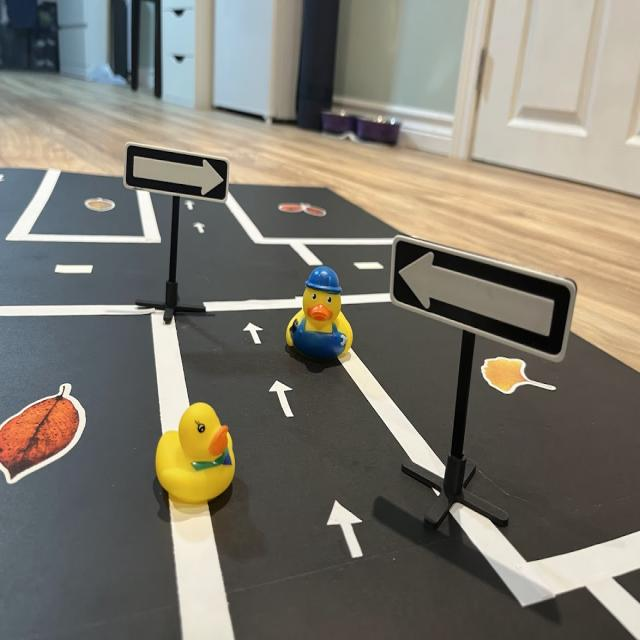duck_regular: (153, 400, 238, 509)
duck_specialty: (282, 263, 355, 367)
road_oneway: (326, 489, 375, 567), (268, 373, 298, 423), (243, 316, 263, 351), (192, 222, 209, 241), (186, 198, 198, 215)
sign_oneway_left: (391, 232, 582, 368)
sign_oneway_right: (124, 145, 231, 203)
